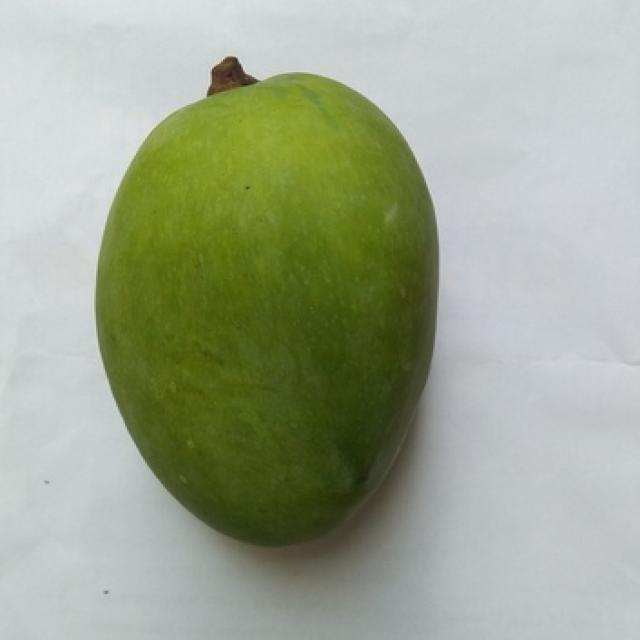Mango: (96, 74, 433, 543)
